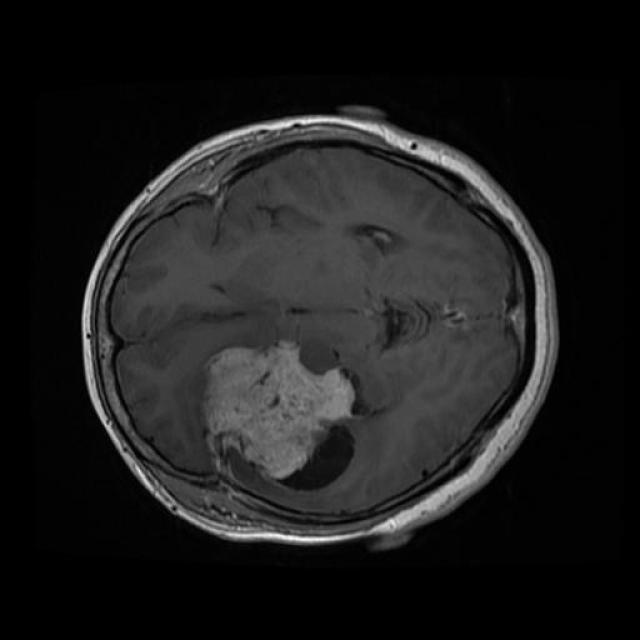Meningioma: (205, 341, 358, 490)
